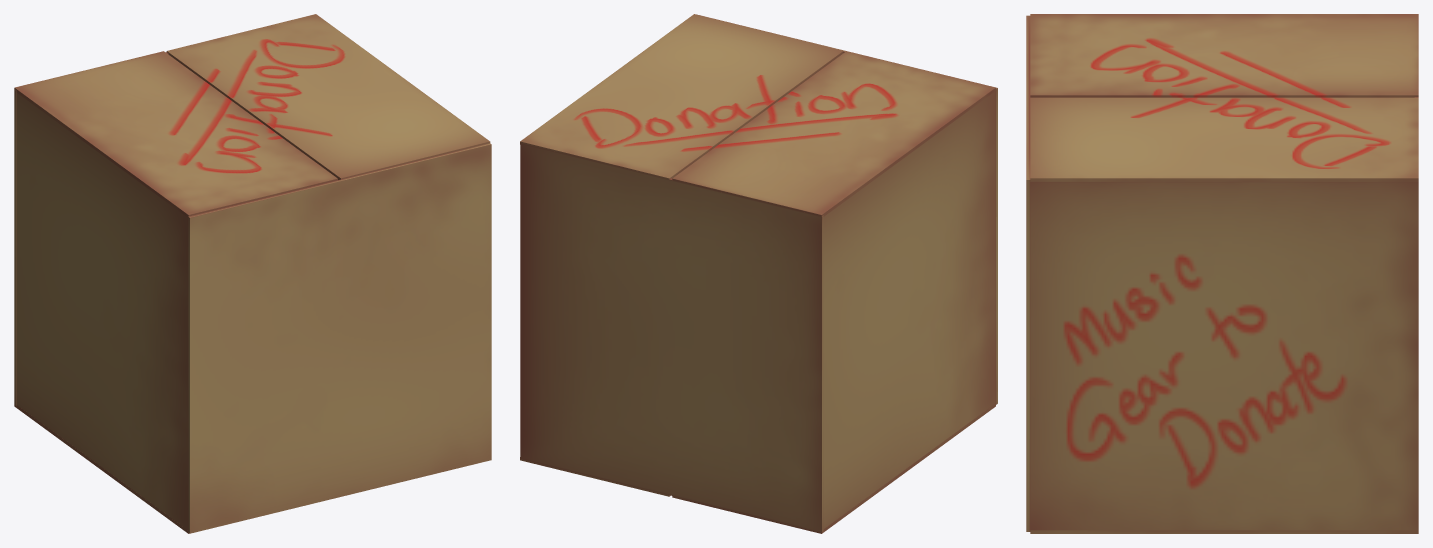
Rendered from Box_medium_writing_texture.fbx.
3 renders of one model, left to right at view 1: azimuth 30°, elevation 25°; view 2: azimuth 150°, elevation 25°; view 3: azimuth 270°, elevation 25°, orthographic. The views are drawn at different scales.
Visible parts, largest first — view 1: Side_04, Side_02, TopBox, Side_03, BottomBox; view 2: Side_03, Side_02, TopBox, BottomBox, Side_04; view 3: Side_01, TopBox, Side_04, BottomBox.
Boxes of the visible parts, <box> form: Side_04: <box>188,143,491,533</box>; Side_02: <box>16,92,188,529</box>; TopBox: <box>14,14,490,217</box>; Side_03: <box>14,52,168,405</box>; BottomBox: <box>14,405,189,533</box>; Side_03: <box>520,143,823,532</box>; Side_02: <box>823,91,995,528</box>; TopBox: <box>520,14,995,216</box>; BottomBox: <box>520,403,995,533</box>; Side_04: <box>699,15,997,404</box>; Side_01: <box>1030,182,1418,530</box>; TopBox: <box>1030,14,1418,181</box>; Side_04: <box>1026,15,1030,531</box>; BottomBox: <box>1030,530,1418,533</box>.
Size of the model in its own units: 798 by 806 by 806.
1 material, 1 textured.
